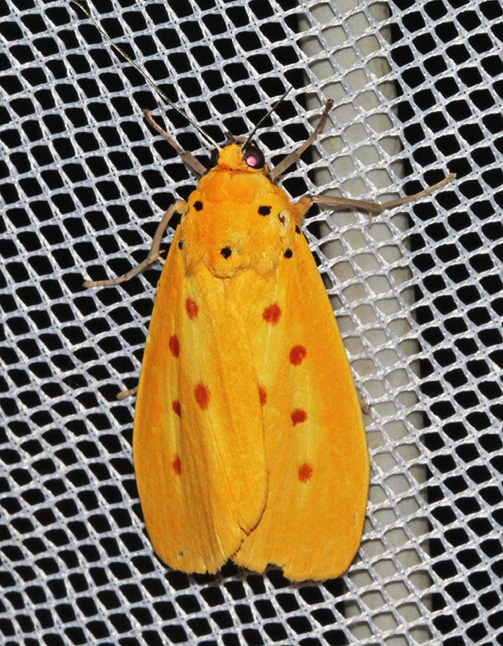Agape chloropyga: (67, 4, 457, 588)
moth: (65, 2, 455, 586)
